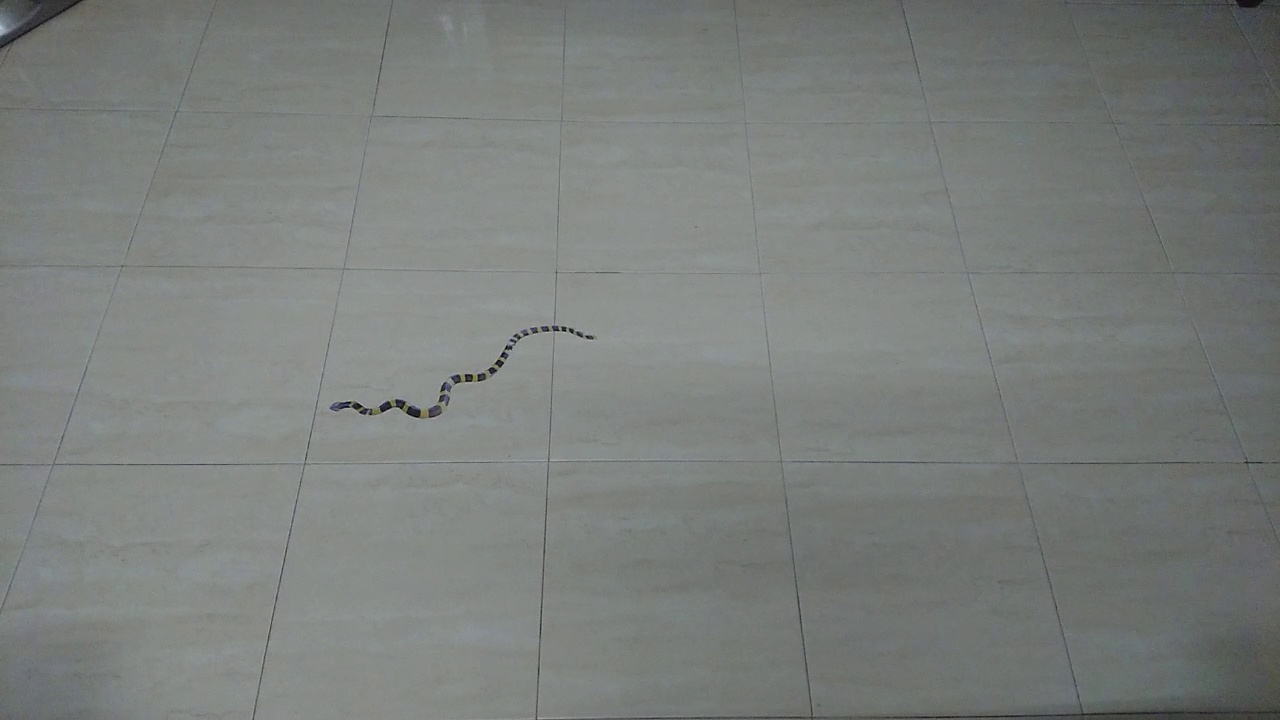snake: (311, 314, 614, 433)
